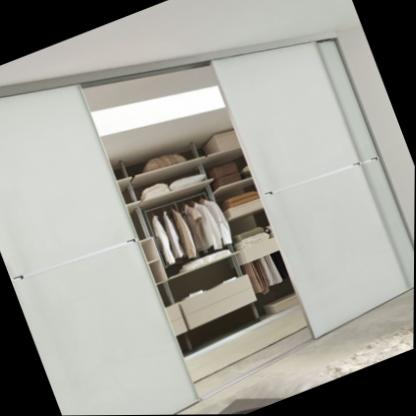Transparent Closet: (73, 34, 328, 401)
